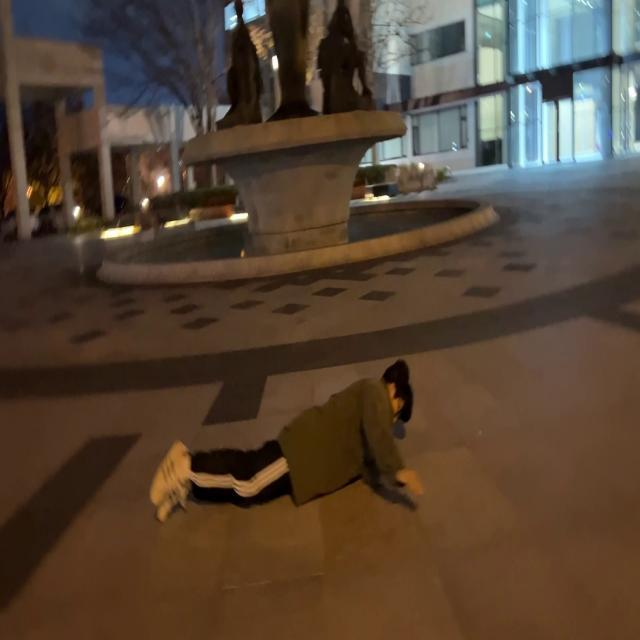Fall: (149, 360, 424, 522)
